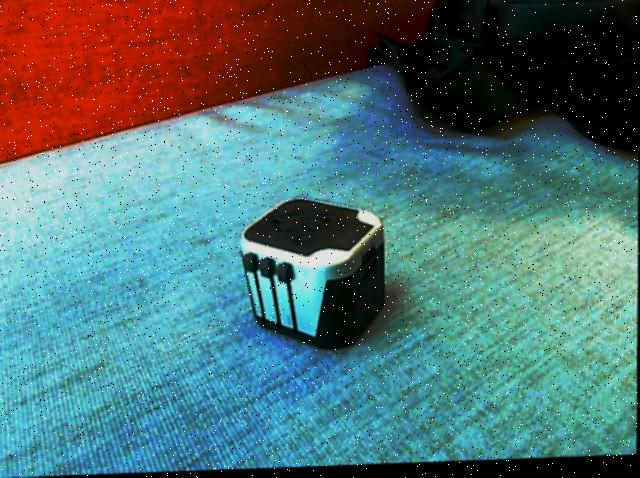adapter: (238, 196, 386, 356)
